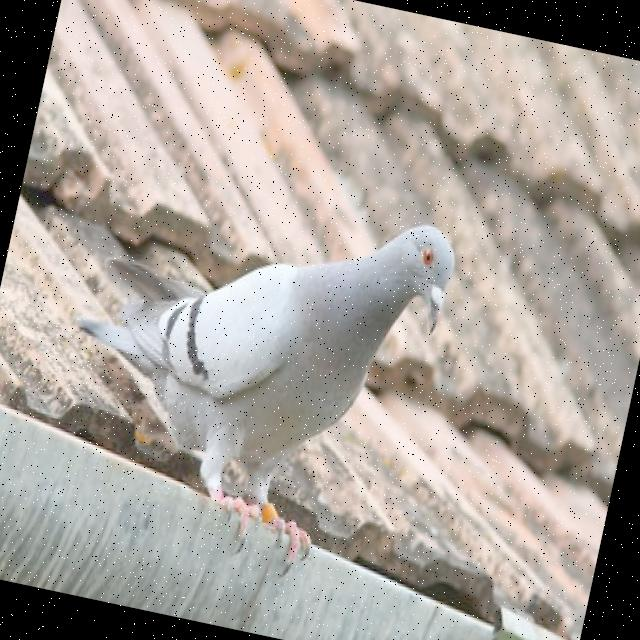bird: (36, 154, 462, 564)
